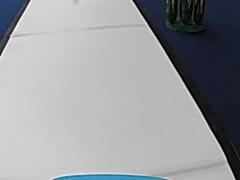corn: (162, 0, 209, 32)
